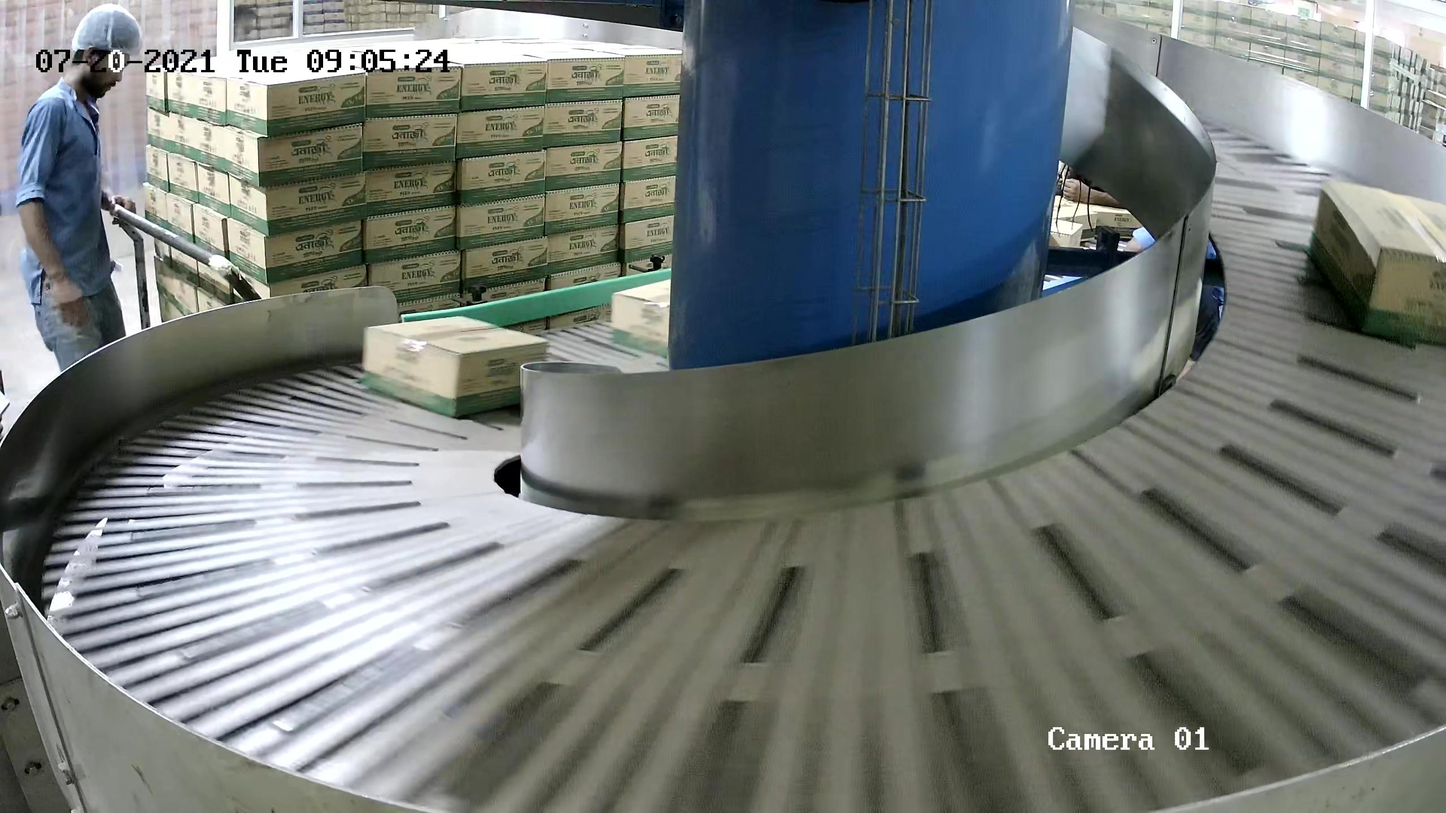Box: (1307, 181, 1446, 354), (361, 315, 548, 420), (612, 272, 734, 363)
